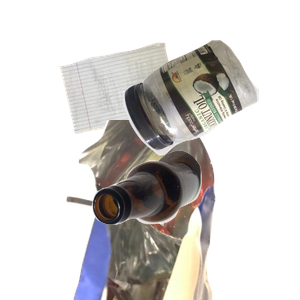glass: (90, 148, 300, 300)
paper: (56, 40, 229, 166)
plastic: (120, 37, 300, 185)
trash: (63, 120, 300, 300)
